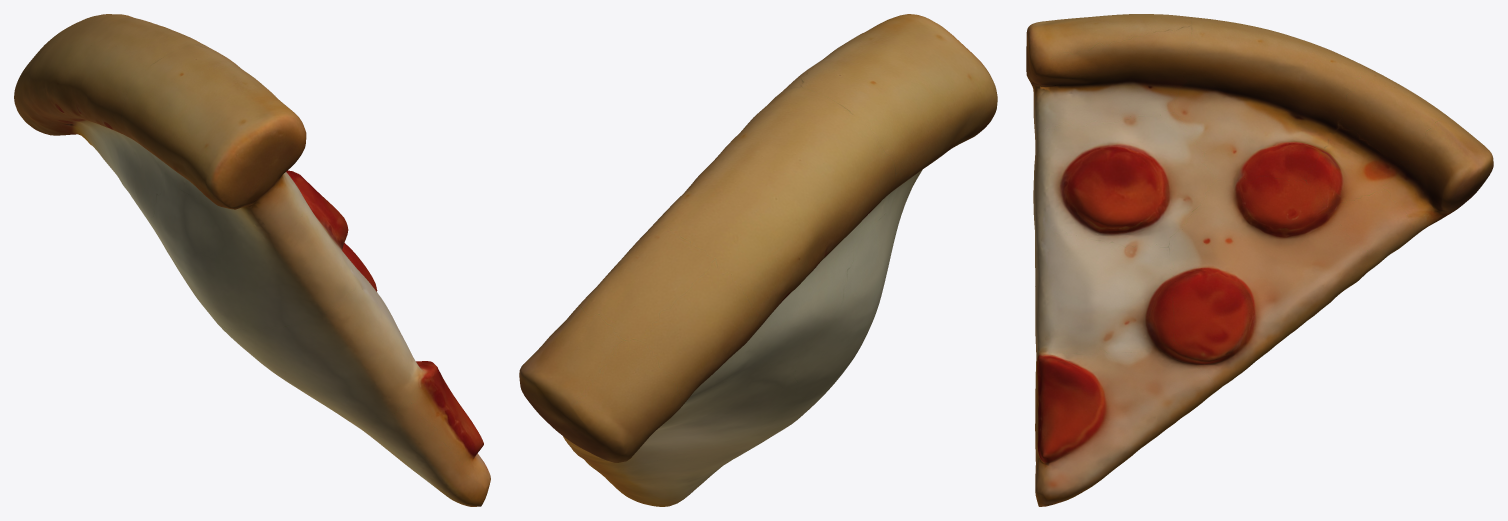
File: cartoon_pizza.glb
The picture shows the model from 3 angles, left to right: view 1: azimuth 30°, elevation 25°; view 2: azimuth 150°, elevation 25°; view 3: azimuth 270°, elevation 25°; orthographic projection. The views are drawn at different scales.
Parts seen in each view (by area): view 1: Object_3; view 2: Object_3; view 3: Object_3.
Boxes of the visible parts, left/top/right/bottom form: Object_3: left=14, top=14, right=490, bottom=506; Object_3: left=519, top=14, right=997, bottom=506; Object_3: left=1026, top=14, right=1493, bottom=506.
Bounding box in the file's own units: 0.7668 × 1.13 × 1.2.
Materials: 1 (1 with a texture image).
